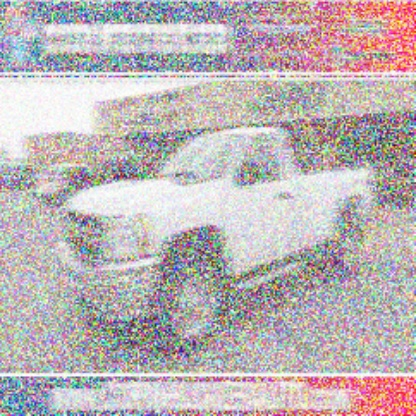Vehicle: (59, 124, 378, 355)
